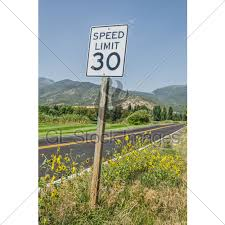speedLimit30: (86, 22, 128, 79)
